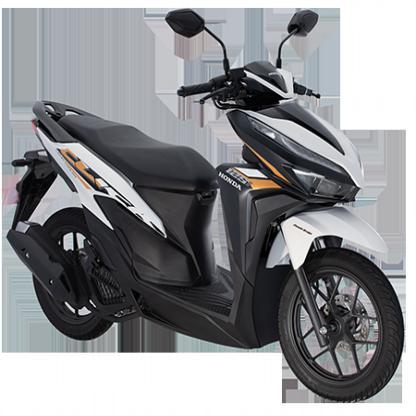Motorcycle: (9, 2, 415, 406)
